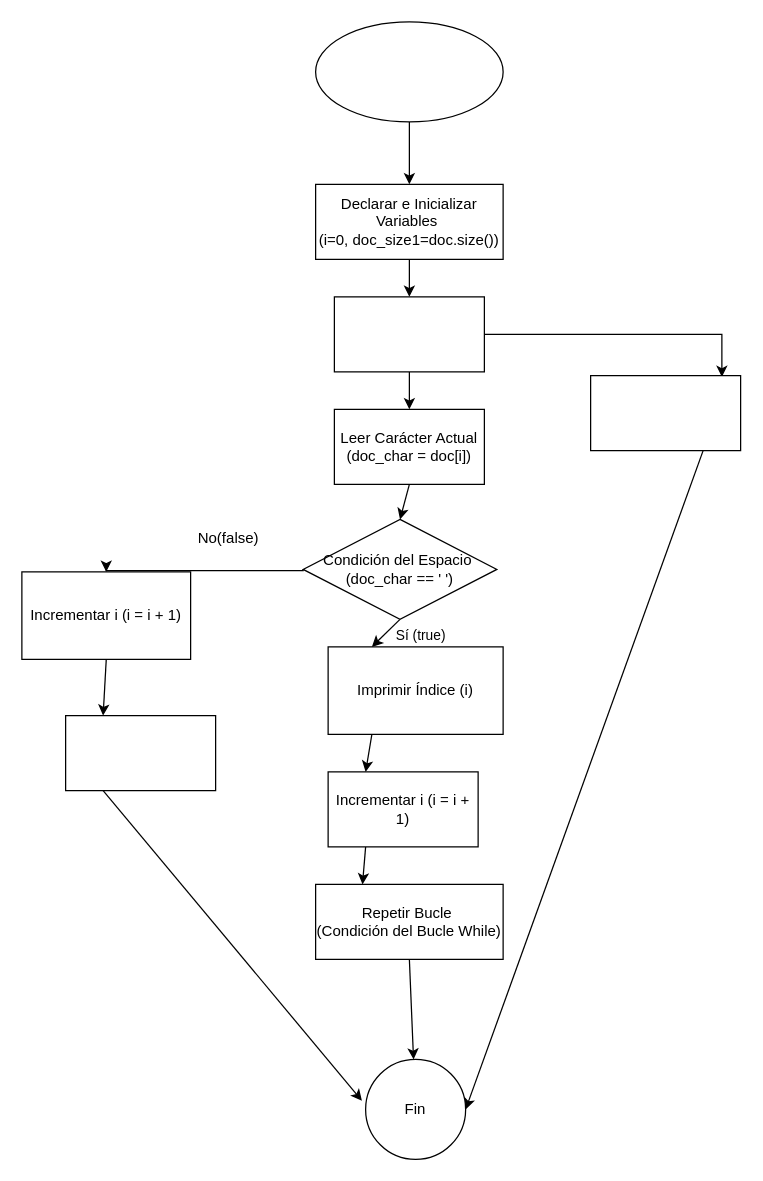
Some shapes in this 763 by 1181 pixel diagram are drawn without their labels. Each missing label, with the centre of its shape:
"Condición del Bucle While (i <= doc_size1)" goes at (x=408, y=334).
"Imprimir Tamaño del Documento (doc.size())" goes at (x=665, y=412).
"INICIO" goes at (x=408, y=71).
"Repetir Bucle" goes at (x=140, y=752).
